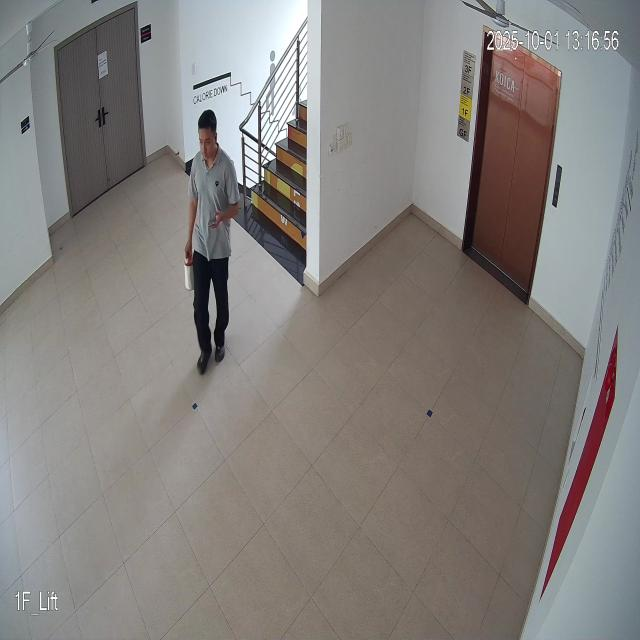face: (197, 104, 220, 165)
